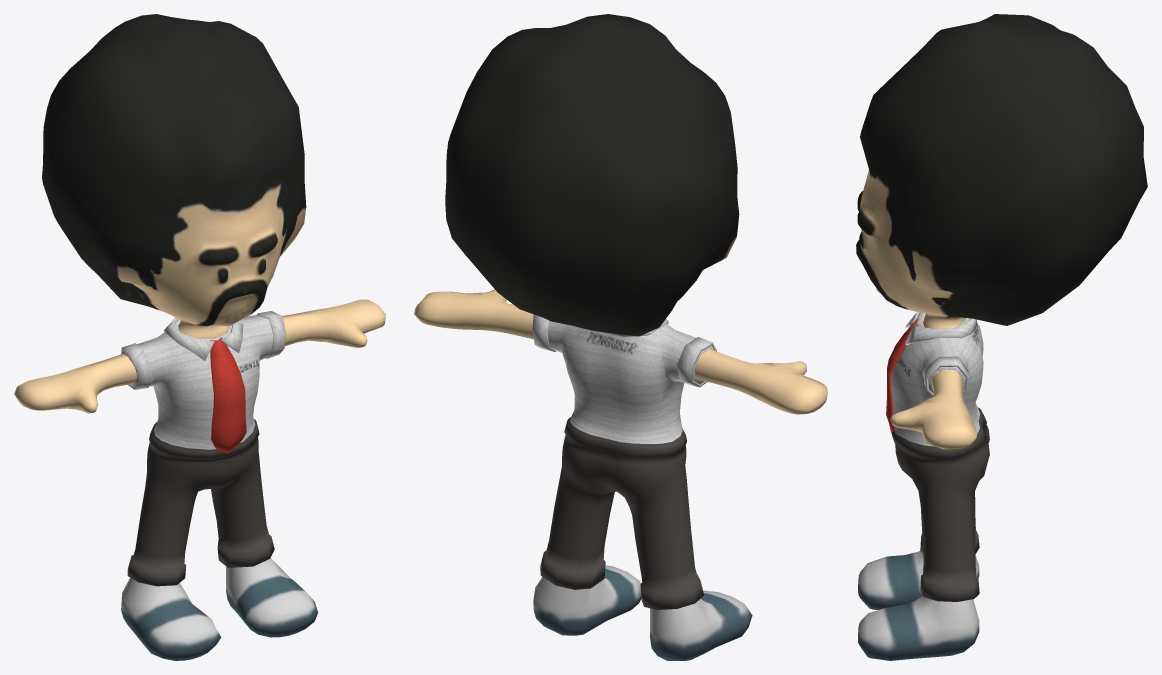
The model's file is ls_developer_k.glb.
3 views of the same model, side by side, from view 1: azimuth 30°, elevation 25°; view 2: azimuth 150°, elevation 25°; view 3: azimuth 270°, elevation 25° (orthographic). The views are drawn at different scales.
Visible parts, largest first — view 1: CHR_SC_LS_DeveloperK; view 2: CHR_SC_LS_DeveloperK; view 3: CHR_SC_LS_DeveloperK.
Part boxes in pixels (x1,y1,x2,y2): CHR_SC_LS_DeveloperK: (14, 14, 385, 660); CHR_SC_LS_DeveloperK: (414, 14, 827, 660); CHR_SC_LS_DeveloperK: (856, 14, 1147, 660).
Bounding box in the file's own units: 0.8448 × 1.28 × 0.564.
1 material, 1 textured.
